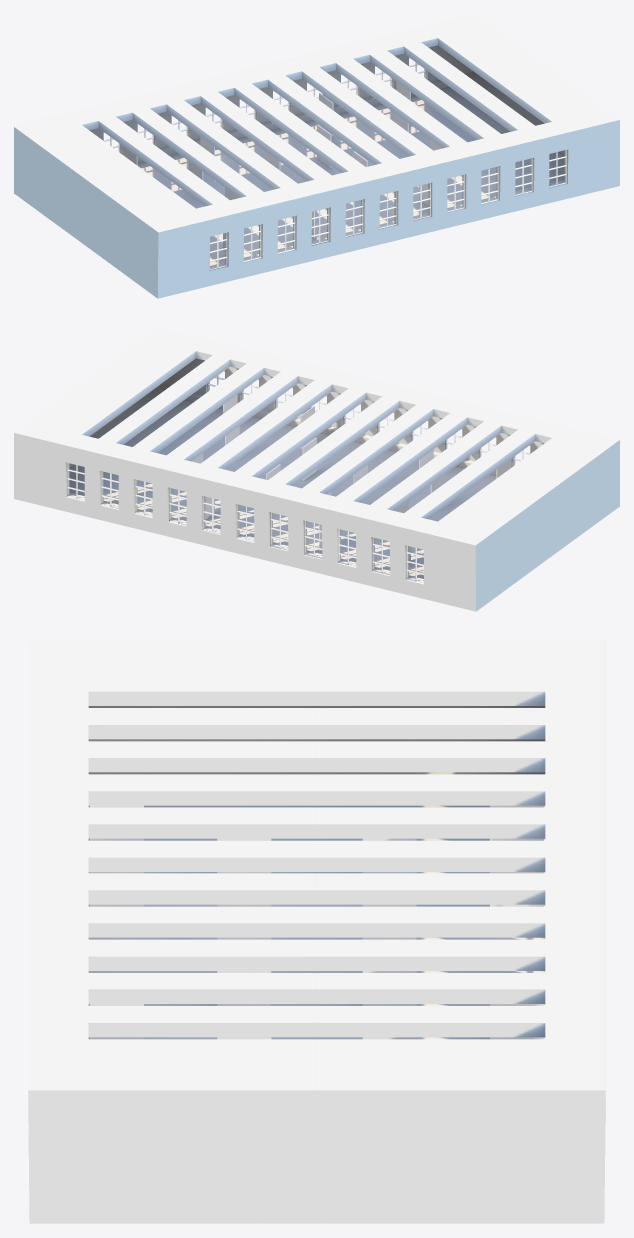
Rendered from museo.glb.
3 views of the same model, one above another, from view 1: azimuth 30°, elevation 25°; view 2: azimuth 150°, elevation 25°; view 3: azimuth 270°, elevation 25° (orthographic). The views are drawn at different scales.
Visible parts, largest first — view 1: Body; view 2: Body; view 3: Body.
Part boxes in pixels (<box>): Body: <box>14,14,619,298</box>; Body: <box>14,327,619,611</box>; Body: <box>28,640,605,1223</box>.
Bounding box in the file's own units: 123 × 16.91 × 66.66.
1 material, 1 textured.
